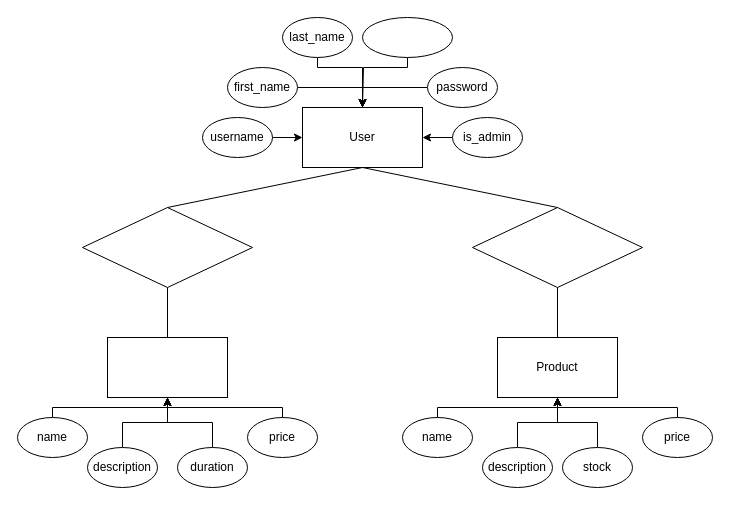
The diagram is 730 pixels wide and 505 high, and some of its shapes have lost their labels. The shapes that lost their labels are listed below. From the top down, each one's box as (x1, y1, x2, y2) in pixels, then its label:
(362, 16, 452, 58): num_telemovel
(82, 206, 252, 288): ServiceAppointment
(472, 206, 642, 288): ProductReservation
(106, 336, 228, 398): Service
